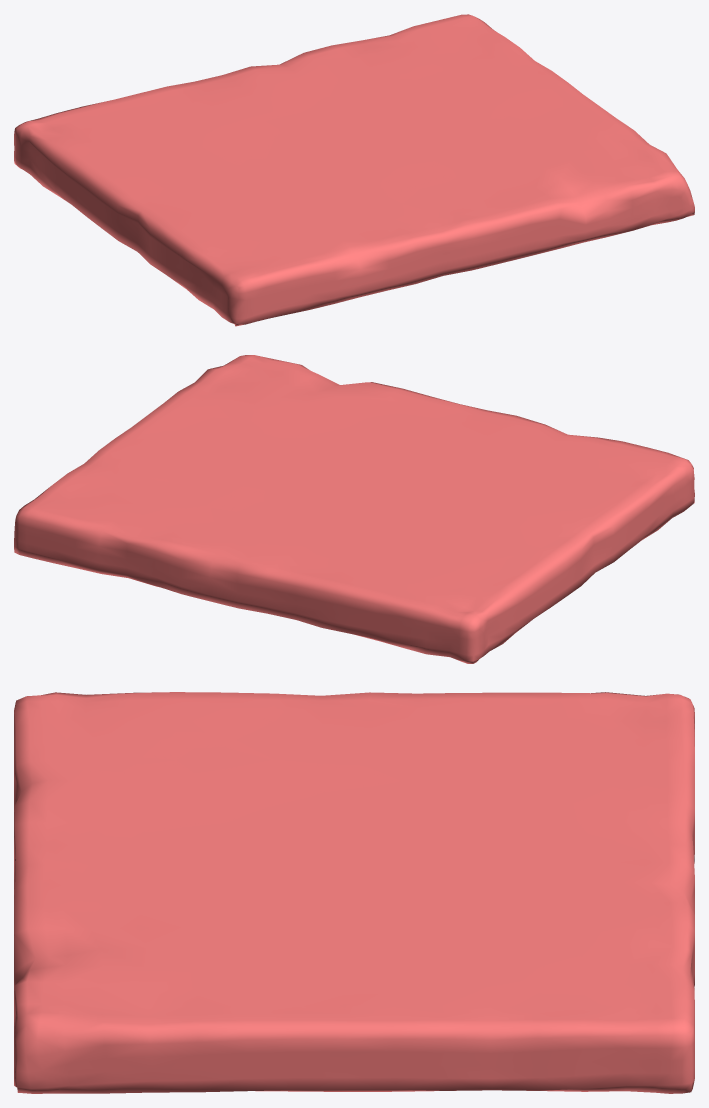
The model's file is floor-1.fbx.
3 renders of one model, top to bottom at view 1: azimuth 30°, elevation 25°; view 2: azimuth 150°, elevation 25°; view 3: azimuth 270°, elevation 25°, orthographic. The views are drawn at different scales.
Visible parts, largest first — view 1: PM3D_Cube3D_1; view 2: PM3D_Cube3D_1; view 3: PM3D_Cube3D_1.
Part boxes in pixels (x1,y1,x2,y2): PM3D_Cube3D_1: (14, 14, 694, 326); PM3D_Cube3D_1: (14, 355, 694, 663); PM3D_Cube3D_1: (14, 692, 694, 1093).
Bounding box in the file's own units: 2 × 0.1829 × 1.69.
